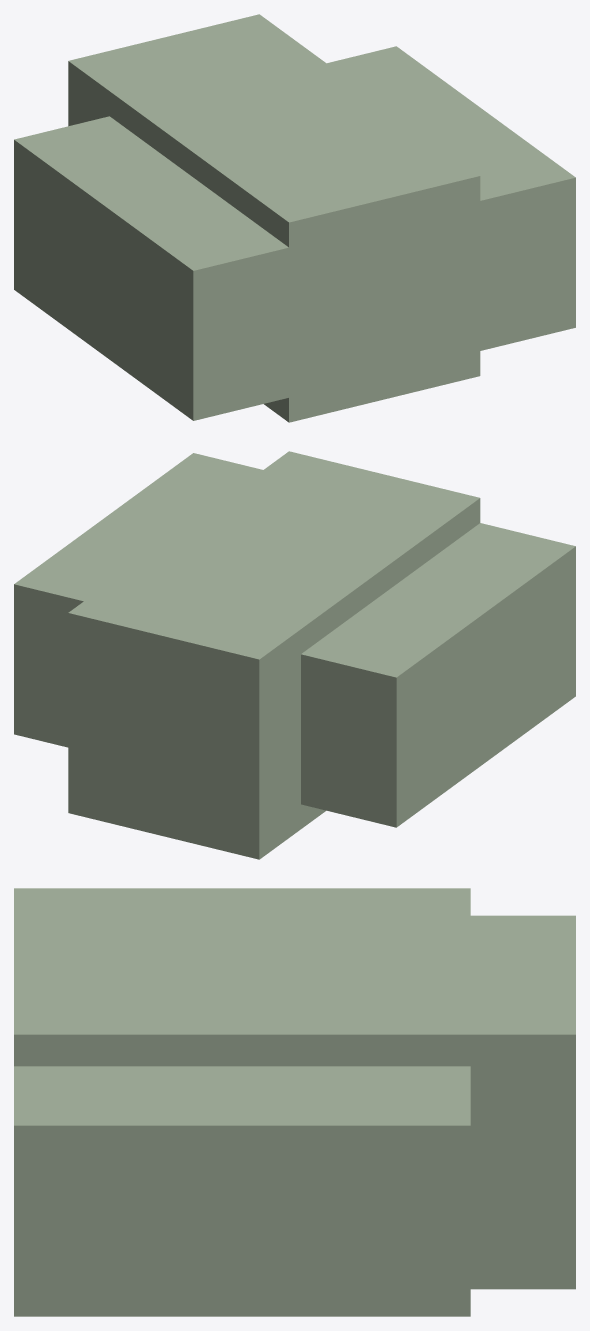
The model's file is mossy_cobblestone_wall_held.gltf.
3 renders of one model, top to bottom at view 1: azimuth 30°, elevation 25°; view 2: azimuth 150°, elevation 25°; view 3: azimuth 270°, elevation 25°, orthographic. The views are drawn at different scales.
Visible parts, largest first — view 1: building_mossy_cobblestone_wall_held; view 2: building_mossy_cobblestone_wall_held; view 3: building_mossy_cobblestone_wall_held.
Part boxes in pixels (x1,y1,x2,y2): building_mossy_cobblestone_wall_held: [14, 14, 575, 422]; building_mossy_cobblestone_wall_held: [14, 451, 575, 859]; building_mossy_cobblestone_wall_held: [14, 888, 575, 1316].
Bounding box in the file's own units: 0.16 × 0.08 × 0.16.
